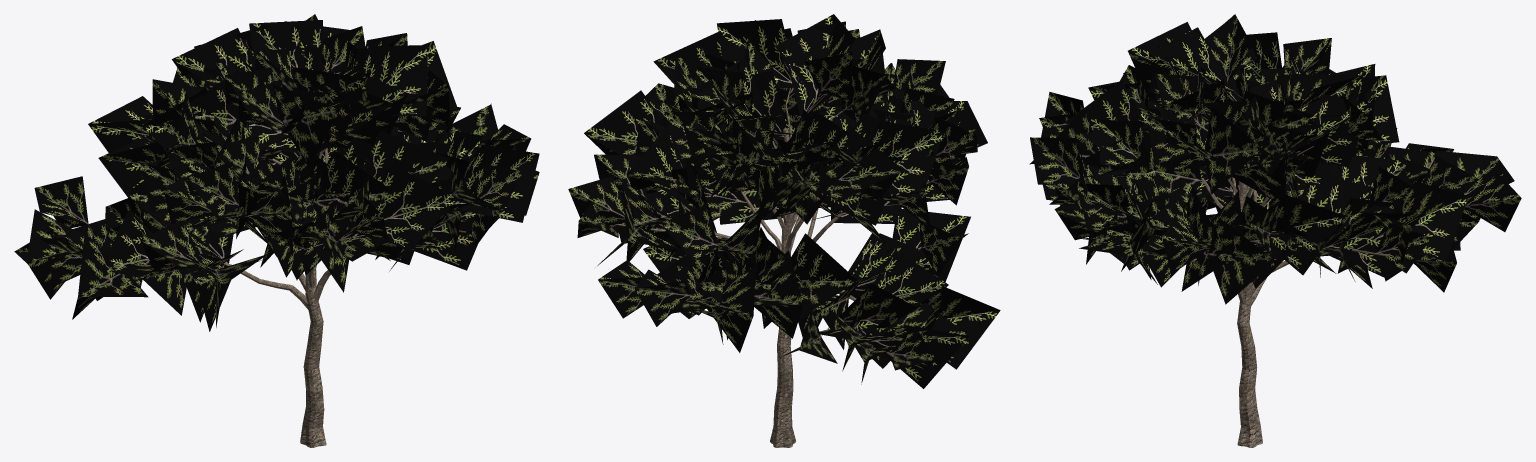
The model's file is Tree_LOD0.fbx.
The picture shows the model from 3 angles, left to right: view 1: azimuth 30°, elevation 25°; view 2: azimuth 150°, elevation 25°; view 3: azimuth 270°, elevation 25°; orthographic projection. The views are drawn at different scales.
Visible parts, largest first — view 1: tree_LOD0; view 2: tree_LOD0; view 3: tree_LOD0.
Part boxes in pixels (<box>): tree_LOD0: <box>14,14,539,447</box>; tree_LOD0: <box>568,14,1000,447</box>; tree_LOD0: <box>1029,14,1521,447</box>.
Bounding box in the file's own units: 23.12 × 21.12 × 23.71.
